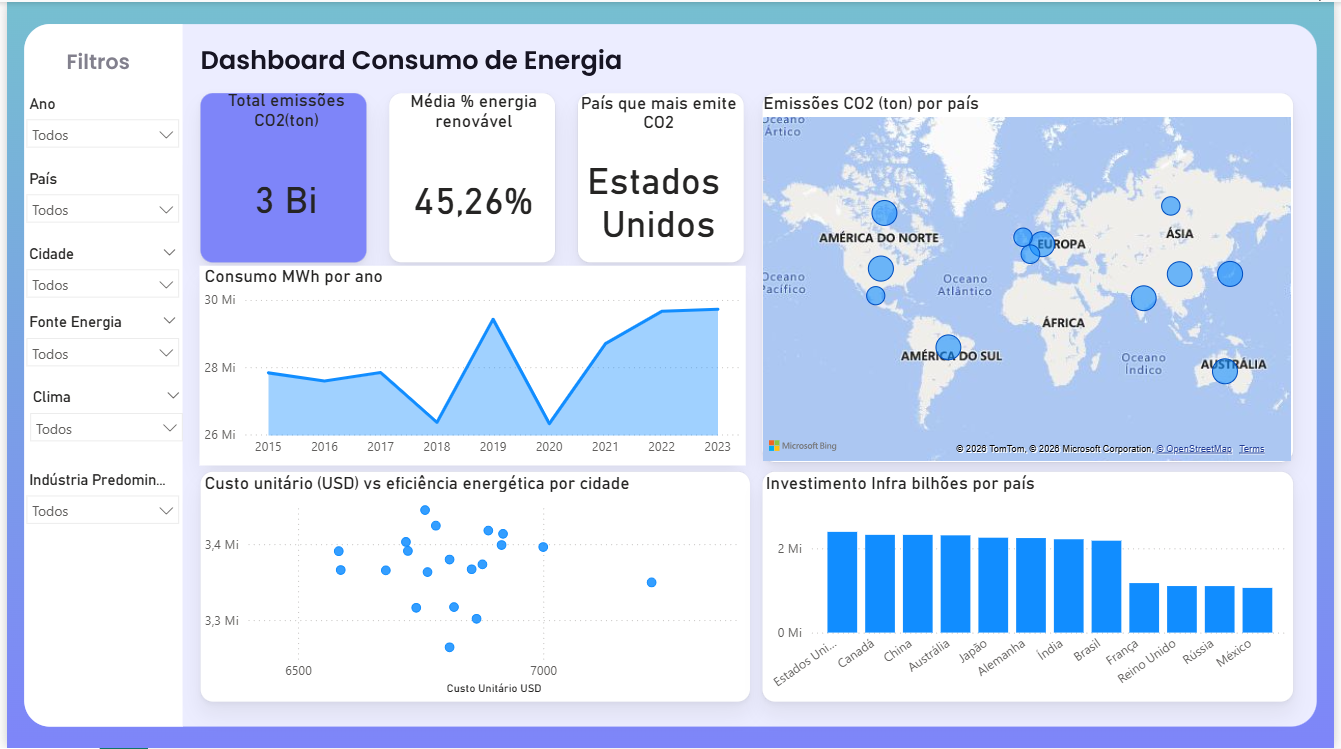

What the dashboard file says about the page in this screenshot:
{"tool":"powerbi","page":{"name":"Dash Energia","canvas":[1280,720],"ordinal":0},"visuals":[{"type":"card","title":"Total emissões CO2(ton)","fields":{"Values":["Sum(Base Energia.Emissoes CO2 Ton)"]},"box":[185.8,84.5,167.7,167.7],"z":0},{"type":"card","title":"Média % energia renovável","fields":{"Values":["Avg(Base Energia.Perc Energia Renovavel)"]},"box":[366.8,85.7,167.7,167.7],"z":1000},{"type":"card","title":"País que mais emite CO2","fields":{"Values":["Min(Base Energia.País)"]},"box":[545.3,86.9,167.7,167.7],"z":2000},{"type":"map","title":" Emissões CO2 (ton) por país","fields":{"Category":["Base Energia.País"],"Size":["Sum(Base Energia.Emissoes CO2 Ton)"]},"box":[725.1,86.9,518.8,360.7],"z":3000},{"type":"areaChart","title":" Consumo MWh por ano","fields":{"Category":["Base Energia.Ano"],"Y":["Sum(Base Energia.Consumo MWh)"]},"box":[185.8,254.6,527.2,193],"z":3001},{"type":"scatterChart","title":"Custo unitário (USD) vs eficiência energética por cidade","fields":{"X":["Sum(Base Energia.Custo Unitário USD)"],"Y":["Sum(Base Energia.Eficiência Energetica)"],"Category":["Base Energia.Cidade"]},"box":[185.8,453.6,539.3,219.6],"z":3002},{"type":"clusteredColumnChart","title":" Investimento Infra bilhões por país","fields":{"Category":["Base Energia.País"],"Y":["Sum(Base Energia.Investimento Infra Bilhoes)"]},"box":[727.5,453.6,513.9,223.2],"z":3003},{"type":"slicer","fields":{"Values":["Base Energia.Ano"]},"box":[8.4,84.5,167.7,72.4],"z":3004},{"type":"slicer","fields":{"Values":["Base Energia.País"]},"box":[8.4,156.8,167.7,72.4],"z":3005},{"type":"slicer","fields":{"Values":["Base Energia.Cidade"]},"box":[8.4,229.2,167.7,84.5],"z":3006},{"type":"slicer","fields":{"Values":["Base Energia.Fonte Energia"]},"box":[8.4,295.6,167.7,72.4],"z":3007},{"type":"slicer","fields":{"Values":["Base Energia.Clima"]},"box":[12.1,368,167.7,72.4],"z":3008},{"type":"slicer","fields":{"Values":["Base Energia.Indústria Predominante"]},"box":[8.4,447.6,167.7,72.4],"z":3009}]}

Visuals, with their boxes in screenshot pixels (x1, y1, x2, y2), scaled from the page's 1280x720 canvas onto the 1341x749 screenshot:
"Total emissões CO2(ton)" card: 195 88 370 262
"Média % energia renovável" card: 384 89 560 264
"País que mais emite CO2" card: 571 90 747 265
" Emissões CO2 (ton) por país" map: 760 90 1303 466
" Consumo MWh por ano" areaChart: 195 265 747 466
"Custo unitário (USD) vs eficiência energética por cidade" scatterChart: 195 472 760 700
" Investimento Infra bilhões por país" clusteredColumnChart: 762 472 1301 704
slicer - Base Energia.Ano: 9 88 184 163
slicer - Base Energia.País: 9 163 184 238
slicer - Base Energia.Cidade: 9 238 184 326
slicer - Base Energia.Fonte Energia: 9 308 184 383
slicer - Base Energia.Clima: 13 383 188 458
slicer - Base Energia.Indústria Predominante: 9 466 184 541
